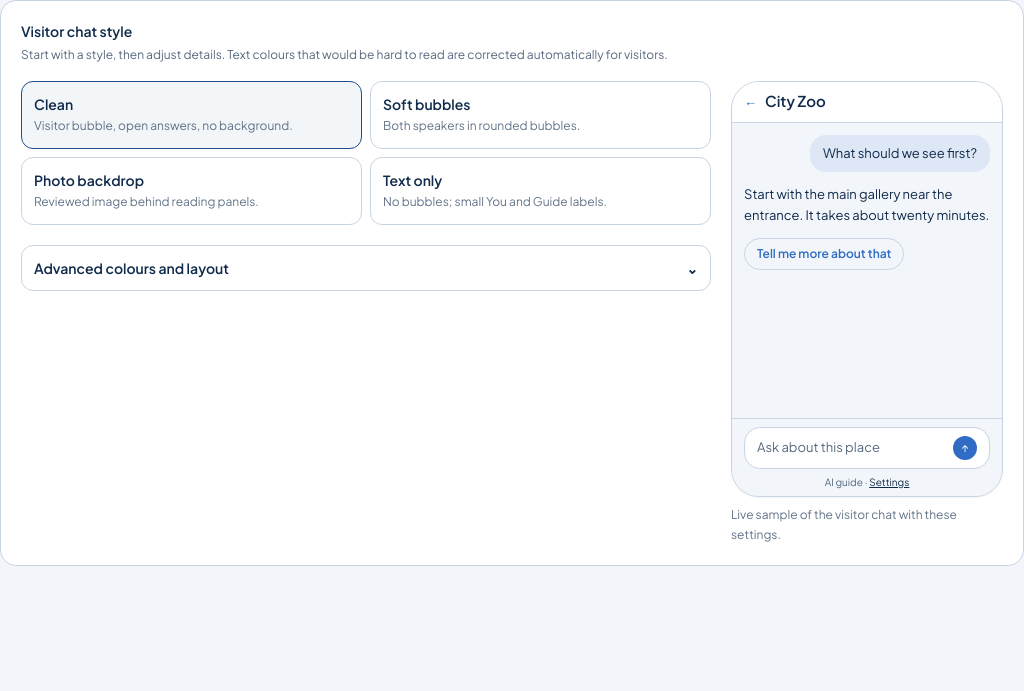
ChatAppearanceEditor › edits advanced controls including title, follow-up toggle and linked bottom bar
Click the heading "Advanced colours and layout ⌄". click: (131, 268)
box: [34,259,698,277]
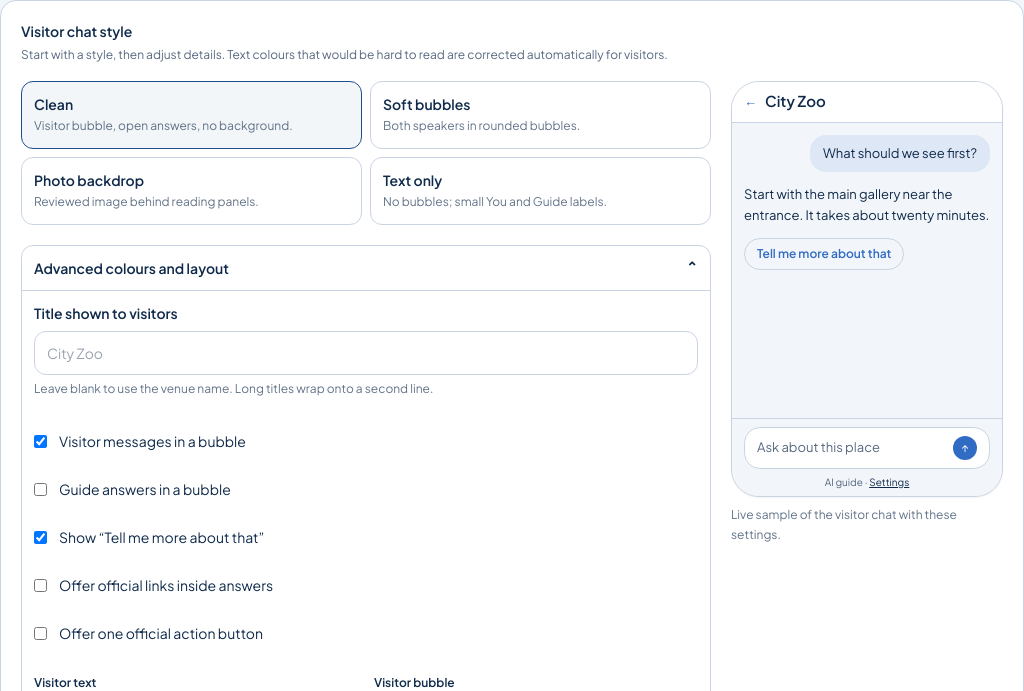
Type "City Zoo Guide" into the field labelled "Title shown to visitors". click: (366, 353)
box: [34,331,698,375]
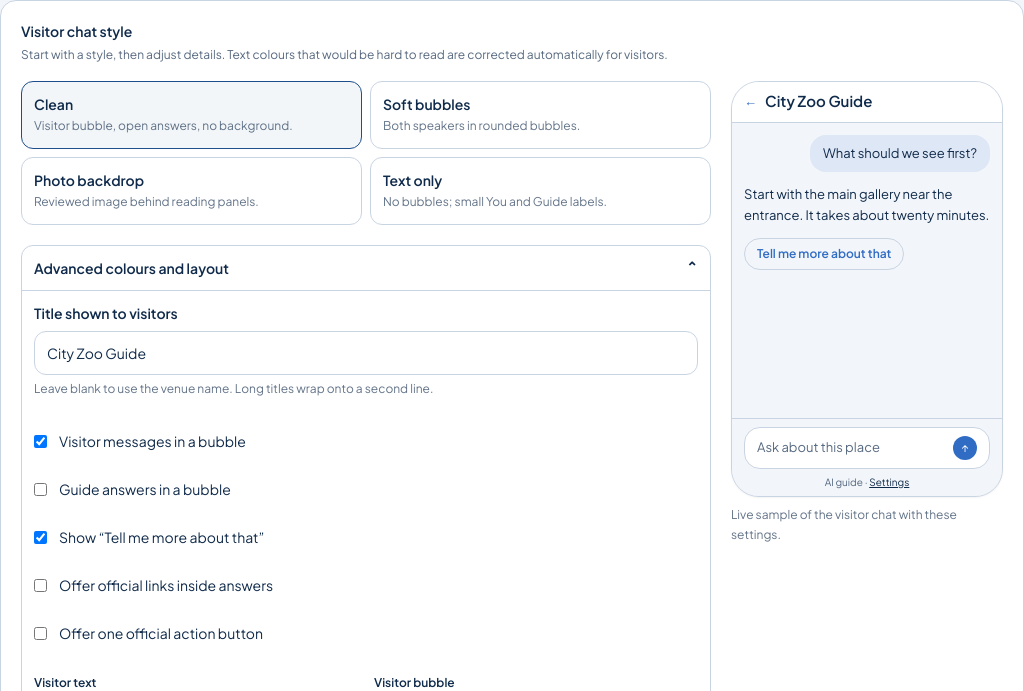
Now the text "City Zoo Guide" is shown, box [765,92,872,111]
Click the switch labelled "Show “Tell me more about that”". click: (40, 537)
box: [34,530,47,544]
(page scrolled)
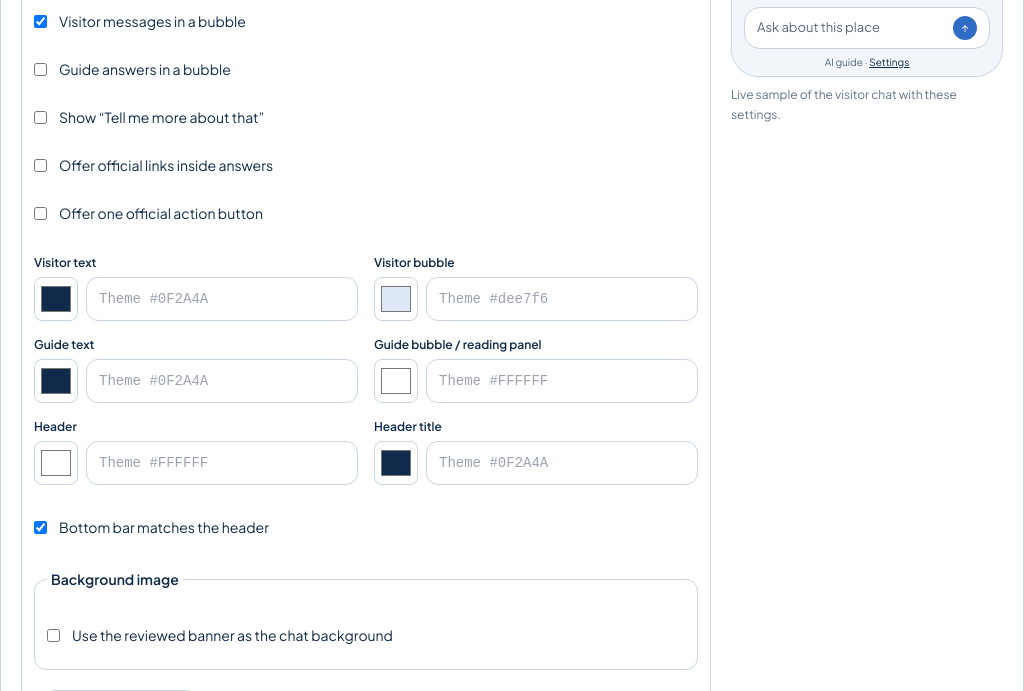
Type "#0B1426" into the field labelled "Header". click: (222, 463)
box: [86,441,358,485]
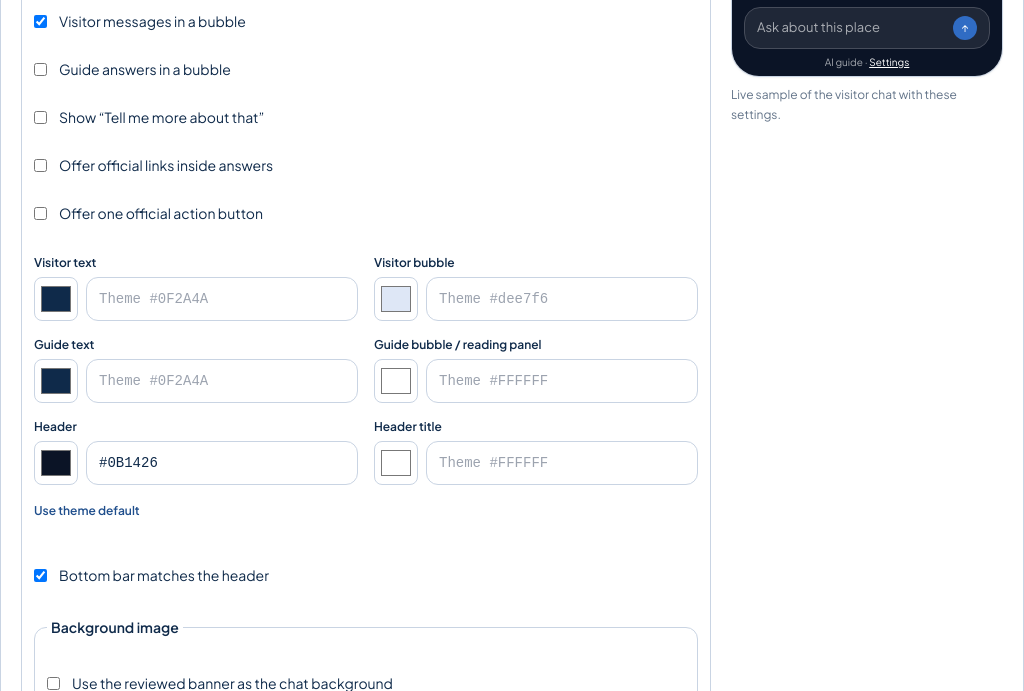
Now the switch labelled "Bottom bar matches the header" is checked
Click the switch labelled "Bottom bar matches the header". click: (40, 575)
box: [34,568,47,582]
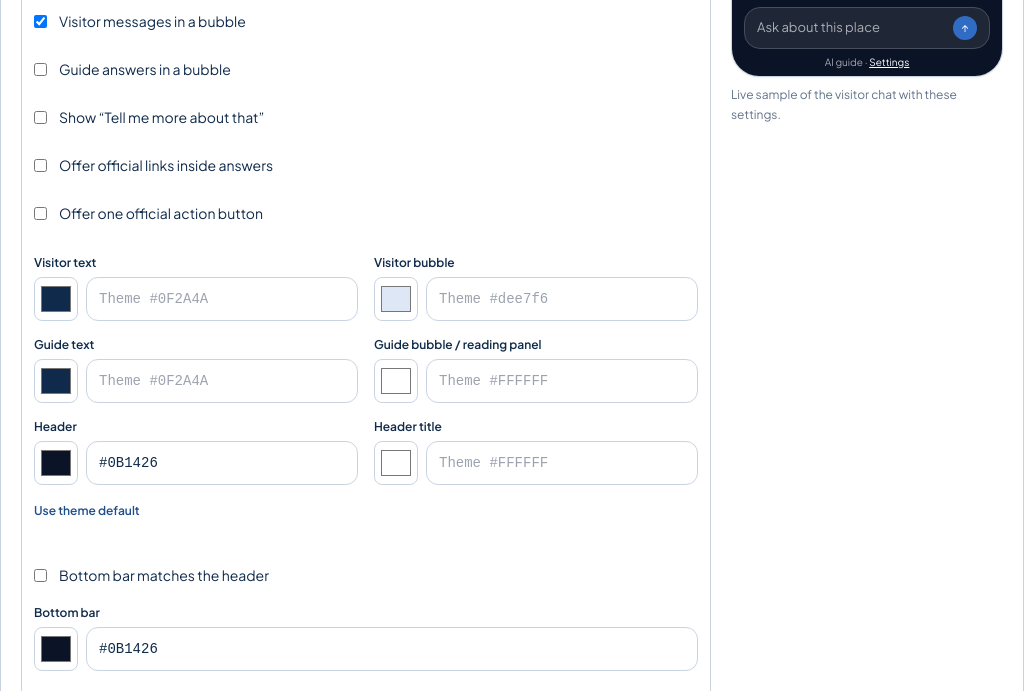
Now the field labelled "Bottom bar" is shown, box [86,627,698,671]
